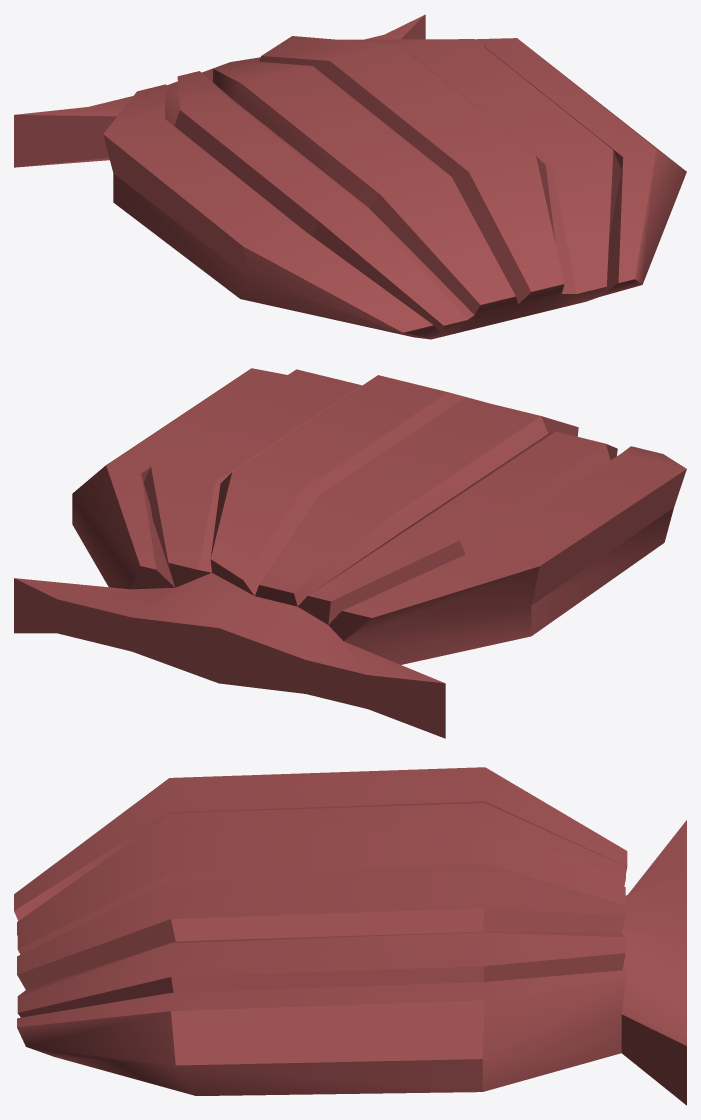
Rendered from beach_shell.fbx.
3 renders of one model, top to bottom at view 1: azimuth 30°, elevation 25°; view 2: azimuth 150°, elevation 25°; view 3: azimuth 270°, elevation 25°, orthographic. The views are drawn at different scales.
Parts seen in each view (by area): view 1: pCube15; view 2: pCube15; view 3: pCube15.
Part boxes in pixels (box(x1,y1,x2,y2)): pCube15: box(14, 14, 686, 339); pCube15: box(14, 368, 686, 738); pCube15: box(14, 767, 686, 1105).
Bounding box in the file's own units: 0.4557 × 0.1142 × 0.5266.
